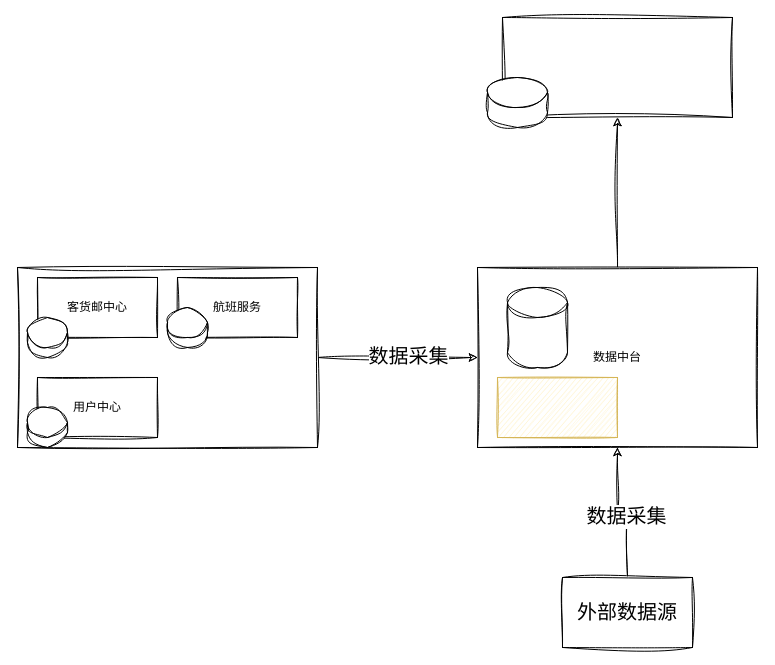
Some shapes in this 775 by 665 pixel diagram are drawn without their labels. Each missing label, with the box of its shape:
业务中台: (16, 266, 318, 448)
数据中心: (496, 376, 618, 438)
经营管理平台: (502, 16, 732, 118)
